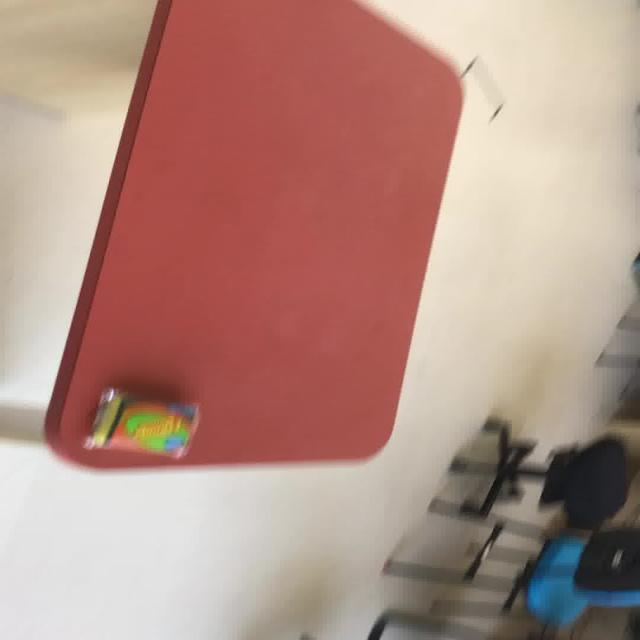sponge: (42, 0, 465, 469), (88, 388, 200, 460)
